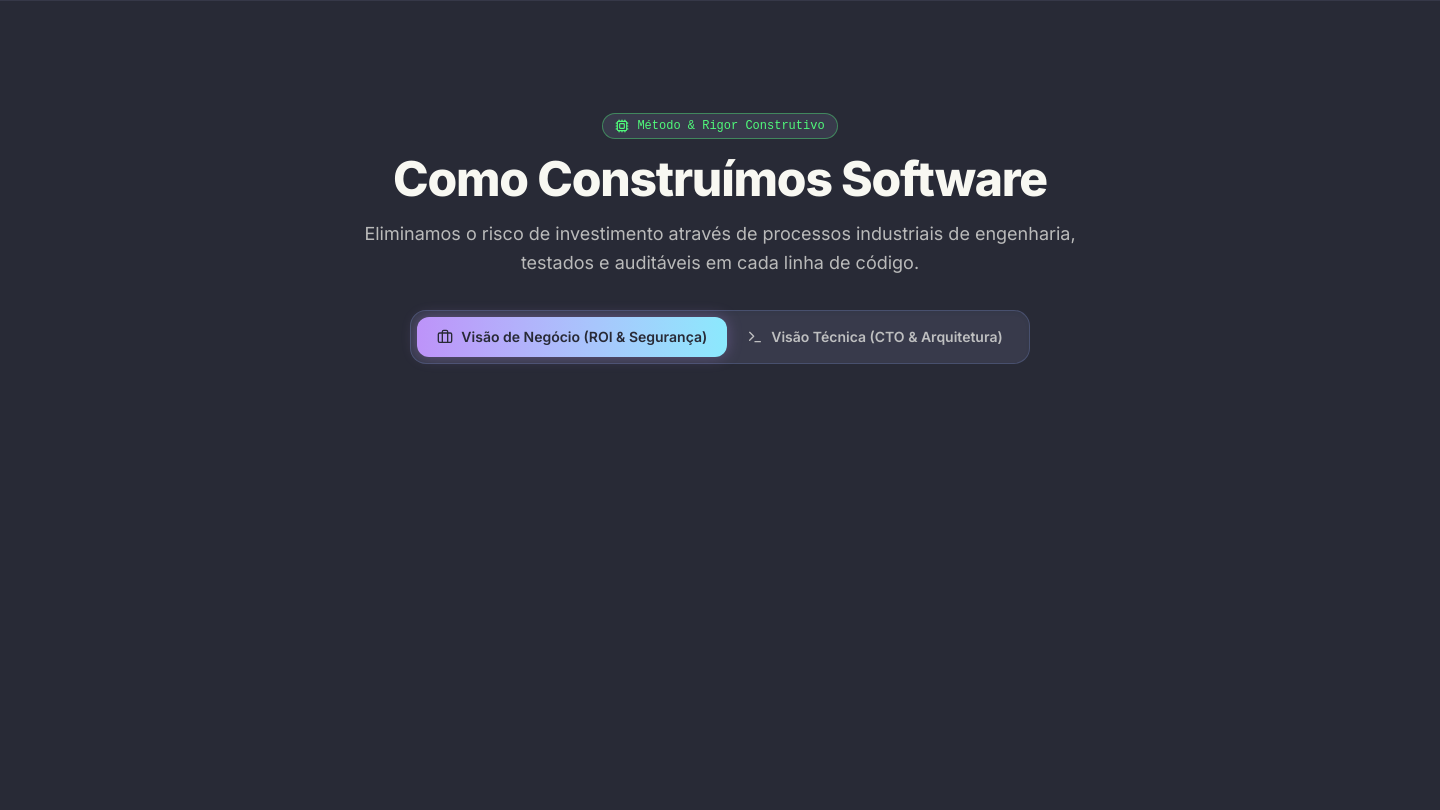
Scenario: EngineeringTrust Component › switches to tech view when CTO button is clicked
Click the button "Visão Técnica (CTO & Arquitetura)" at coordinates (875, 336), box [727,316,1023,356]
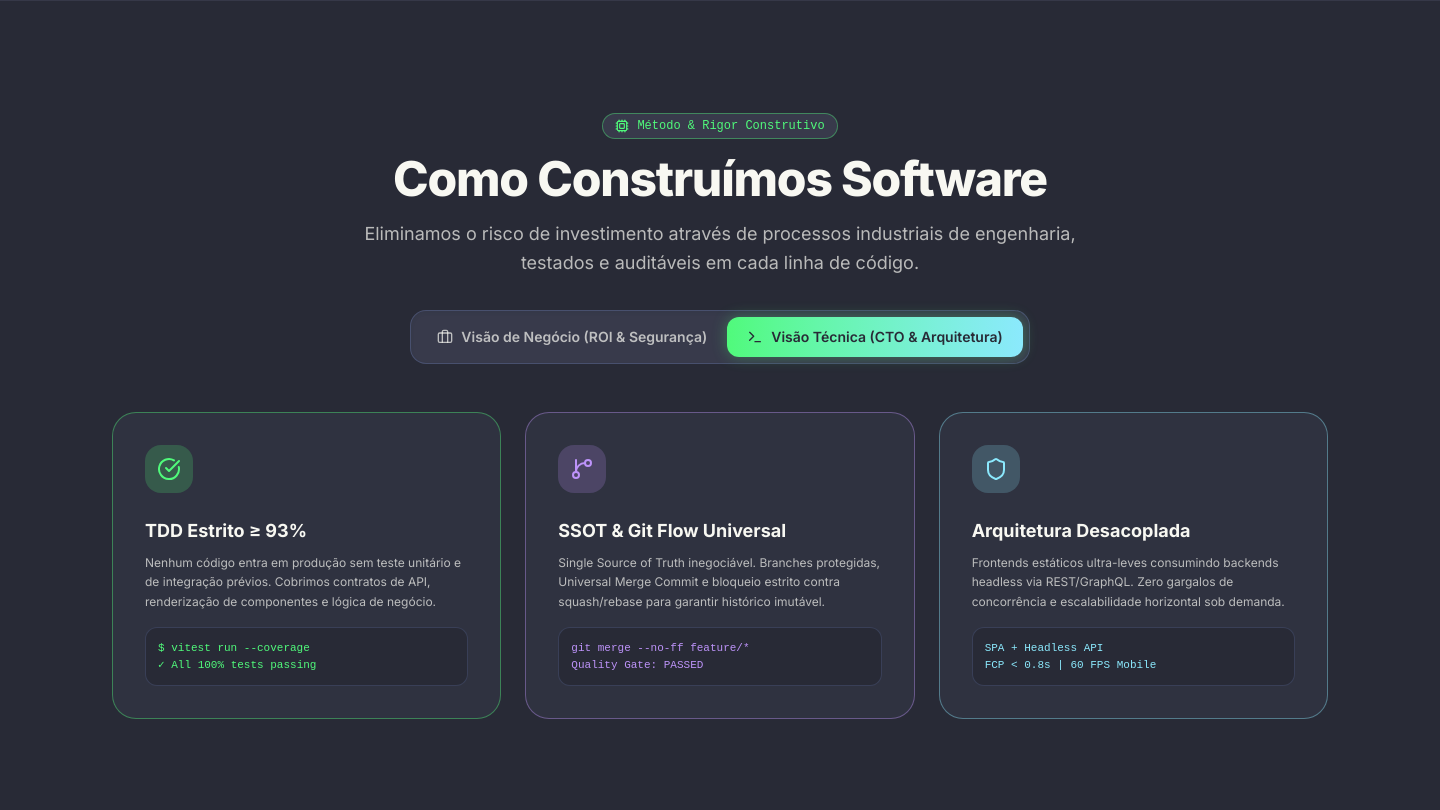
Expected: the heading "TDD Estrito ≥ 93%" is shown, [145,520,307,540]
Expected: the heading "SSOT & Git Flow Universal" is shown, [558,520,786,540]
